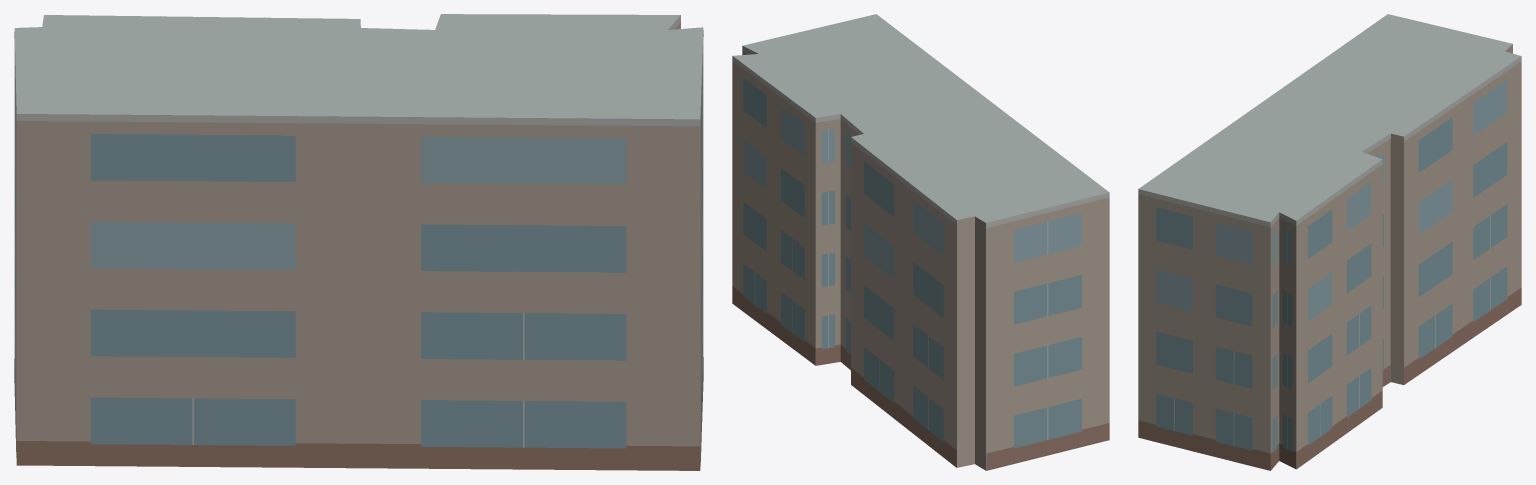
The model's file is survey-upis-32647115.glb.
3 views of the same model, side by side, from view 1: azimuth 30°, elevation 25°; view 2: azimuth 150°, elevation 25°; view 3: azimuth 270°, elevation 25° (orthographic). The views are drawn at different scales.
Visible parts, largest first — view 1: survey-upis-32647115.tmp; view 2: survey-upis-32647115.tmp; view 3: survey-upis-32647115.tmp.
Part boxes in pixels (left/top/right/bottom): survey-upis-32647115.tmp: left=14, top=14, right=703, bottom=470; survey-upis-32647115.tmp: left=732, top=14, right=1109, bottom=470; survey-upis-32647115.tmp: left=1138, top=14, right=1521, bottom=470.
Bounding box in the file's own units: 21.94 × 12.2 × 17.06.
